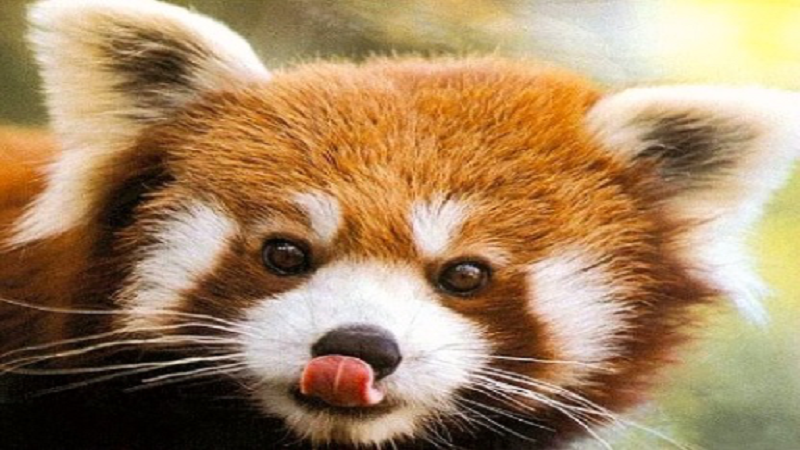raccoon: (14, 2, 787, 450)
